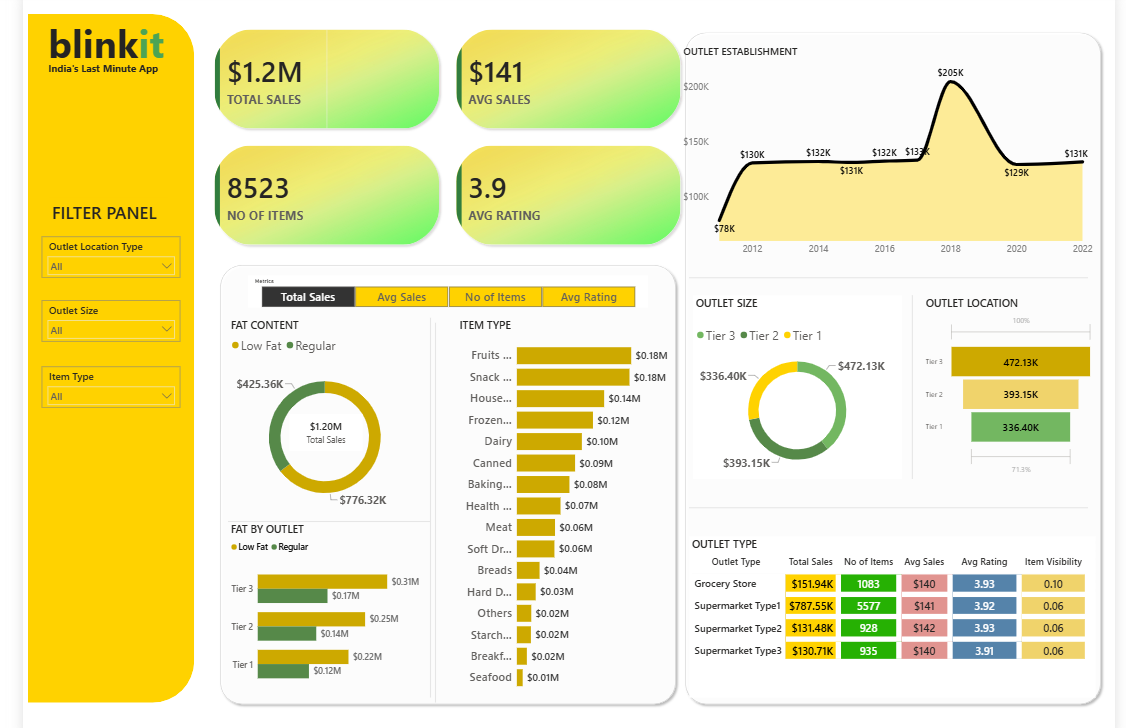

What the dashboard file says about the page in this screenshot:
{"tool":"powerbi","page":{"name":"Page 1","canvas":[2050,1400],"ordinal":0},"visuals":[{"type":"shape","box":[9.4,37.5,312,1292.6],"z":0},{"type":"textbox","box":[42.2,37.5,288.5,110.3],"z":1000},{"type":"textbox","box":[330.8,558.3,1036.9,185.3],"z":2000},{"type":"textbox","box":[42.2,122,617,49.3],"z":3000},{"type":"cardVisual","fields":{"Data":["BlinkIT Grocery Data.Total Sales","BlinkIT Grocery Data.Avg Sales","BlinkIT Grocery Data.No of Items","BlinkIT Grocery Data.Avg Rating"]},"box":[330.8,37.5,933.7,462.1],"z":4000},{"type":"shape","box":[361.3,499.7,872.7,842.2],"z":5000},{"type":"donutChart","title":"FAT CONTENT","fields":{"Y":["BlinkIT Grocery Data.Total Sales"],"Category":["BlinkIT Grocery Data.Item Fat Content"]},"box":[384.7,607.6,363.6,382.4],"z":6000},{"type":"slicer","fields":{"Values":["Metrics 3.Metrics"]},"box":[422.3,527.8,750.7,61],"z":7000},{"type":"cardVisual","fields":{"Data":["BlinkIT Grocery Data.Total Sales"]},"box":[495,783.5,147.8,79.8],"z":8000},{"type":"clusteredBarChart","title":"FAT BY OUTLET","fields":{"Y":["BlinkIT Grocery Data.Total Sales"],"Category":["BlinkIT Grocery Data.Outlet Location Type"],"Series":["BlinkIT Grocery Data.Item Fat Content"]},"box":[384.7,990,363.6,330.8],"z":9000},{"type":"shape","box":[384.7,961.8,380,56.3],"z":10000},{"type":"shape","box":[748.3,607.6,32.8,713.1],"z":11000},{"type":"barChart","title":"ITEM TYPE","fields":{"Y":["BlinkIT Grocery Data.Total Sales"],"Category":["BlinkIT Grocery Data.Item Type"]},"box":[814,607.6,401.1,713.1],"z":12000},{"type":"shape","box":[1233.9,63.3,797.6,1278.5],"z":13000},{"type":"lineChart","title":"OUTLET ESTABLISHMENT","fields":{"Category":["BlinkIT Grocery Data.Outlet Establishment Year"],"Y":["BlinkIT Grocery Data.Total Sales"]},"box":[1233.9,93.8,778.8,405.8],"z":14000},{"type":"shape","box":[1250.3,499.7,748.3,65.7],"z":15000},{"type":"donutChart","title":"OUTLET SIZE","fields":{"Y":["BlinkIT Grocery Data.Total Sales"],"Category":["BlinkIT Grocery Data.Outlet Location Type"]},"box":[1257.4,565.4,391.8,344.8],"z":16000},{"type":"shape","box":[1649.1,565.4,39.9,344.8],"z":17000},{"type":"funnel","title":"OUTLET LOCATION","fields":{"Y":["Sum(BlinkIT Grocery Data.Sales)"],"Category":["BlinkIT Grocery Data.Outlet Location Type"]},"box":[1689,565.4,323.7,344.8],"z":18000},{"type":"shape","box":[758.3,617.6,32.8,713.1],"z":19000},{"type":"shape","box":[1250.3,931.3,748.3,65.7],"z":20000},{"type":"pivotTable","title":"OUTLET TYPE","fields":{"Rows":["BlinkIT Grocery Data.Outlet Type"],"Values":["BlinkIT Grocery Data.Total Sales","BlinkIT Grocery Data.No of Items","BlinkIT Grocery Data.Avg Sales","BlinkIT Grocery Data.Avg Rating","Avg(BlinkIT Grocery Data.Item Visibility)"]},"box":[1250.3,1018.1,762.4,302.6],"z":21000},{"type":"slicer","fields":{"Values":["BlinkIT Grocery Data.Outlet Location Type"]},"box":[35.2,455.1,260.4,77.4],"z":22000},{"type":"slicer","fields":{"Values":["BlinkIT Grocery Data.Outlet Size"]},"box":[35.2,574.7,260.4,77.4],"z":23000},{"type":"slicer","fields":{"Values":["BlinkIT Grocery Data.Item Type"]},"box":[35.2,699.1,260.4,77.4],"z":24000},{"type":"textbox","box":[49.3,382.4,222.9,54],"z":25000}]}

Visuals, with their boxes on the page's 2050x1400 design canvas (x1, y1, x2, y2). These are canvas units, not pixel positions in the 1126x728 screenshot, which may show the page scaled, cropped or inside an application window:
shape: crop(9, 38, 321, 1330)
textbox: crop(42, 38, 331, 148)
textbox: crop(331, 558, 1368, 744)
textbox: crop(42, 122, 659, 171)
cardVisual - BlinkIT Grocery Data.Total Sales x BlinkIT Grocery Data.Avg Sales: crop(331, 38, 1264, 500)
shape: crop(361, 500, 1234, 1342)
"FAT CONTENT" donutChart: crop(385, 608, 748, 990)
slicer - Metrics 3.Metrics: crop(422, 528, 1173, 589)
cardVisual - BlinkIT Grocery Data.Total Sales: crop(495, 784, 643, 863)
"FAT BY OUTLET" clusteredBarChart: crop(385, 990, 748, 1321)
shape: crop(385, 962, 765, 1018)
shape: crop(748, 608, 781, 1321)
"ITEM TYPE" barChart: crop(814, 608, 1215, 1321)
shape: crop(1234, 63, 2032, 1342)
"OUTLET ESTABLISHMENT" lineChart: crop(1234, 94, 2013, 500)
shape: crop(1250, 500, 1999, 565)
"OUTLET SIZE" donutChart: crop(1257, 565, 1649, 910)
shape: crop(1649, 565, 1689, 910)
"OUTLET LOCATION" funnel: crop(1689, 565, 2013, 910)
shape: crop(758, 618, 791, 1331)
shape: crop(1250, 931, 1999, 997)
"OUTLET TYPE" pivotTable: crop(1250, 1018, 2013, 1321)
slicer - BlinkIT Grocery Data.Outlet Location Type: crop(35, 455, 296, 532)
slicer - BlinkIT Grocery Data.Outlet Size: crop(35, 575, 296, 652)
slicer - BlinkIT Grocery Data.Item Type: crop(35, 699, 296, 776)
textbox: crop(49, 382, 272, 436)
